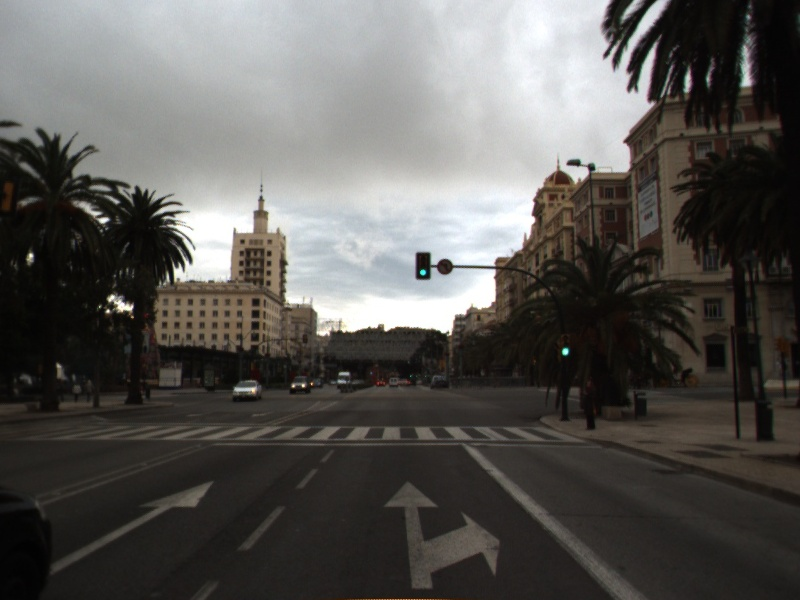STRAIGHT: (49, 479, 216, 575)
STRAIGHT_RIGHT: (382, 480, 501, 591)
